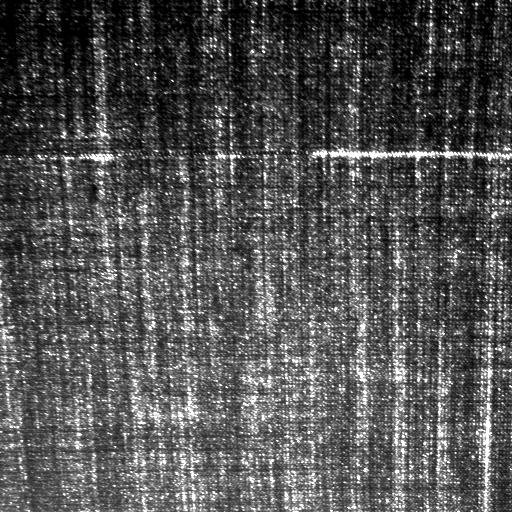fabric_broken_pick: (6, 140, 506, 174)
